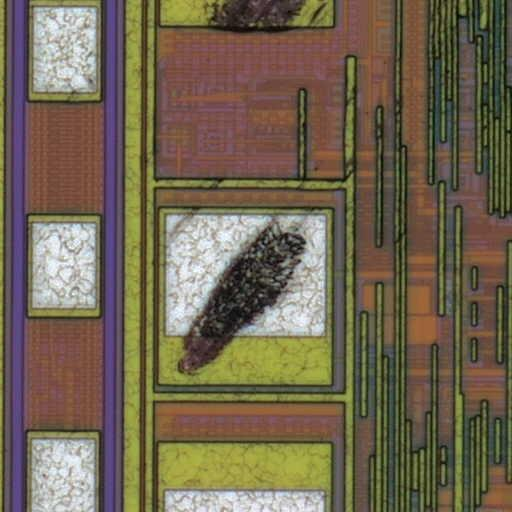SCRATCH: (145, 1, 366, 377)
